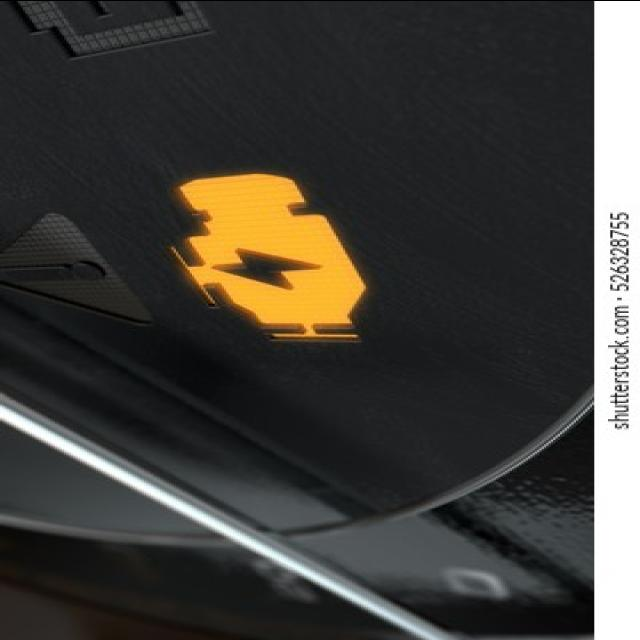Check Engine: (158, 164, 382, 359)
